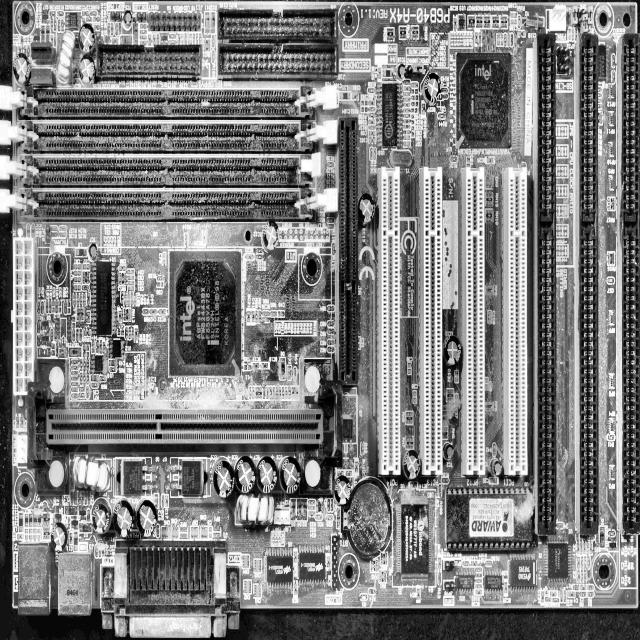PCB: (2, 4, 640, 637)
